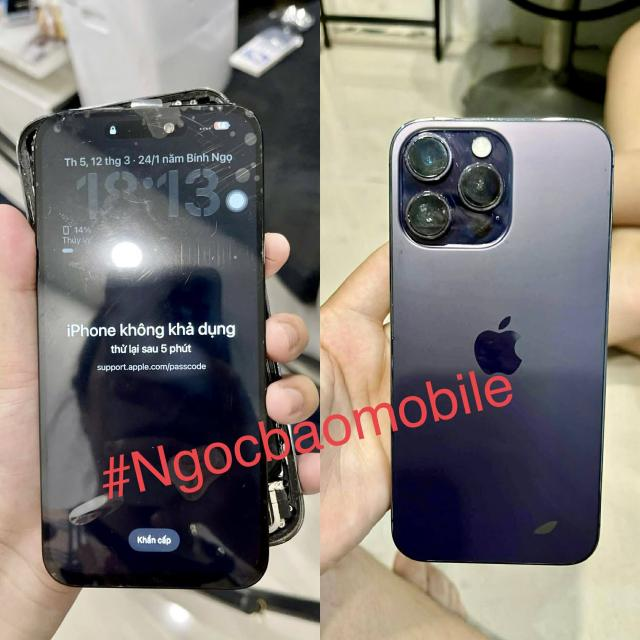gen_11: (12, 87, 306, 598), (389, 110, 615, 570)
physical_damage: (133, 99, 271, 210)
scratch: (403, 131, 499, 238), (84, 257, 200, 344), (520, 509, 575, 551), (52, 116, 102, 161), (42, 198, 89, 242)
